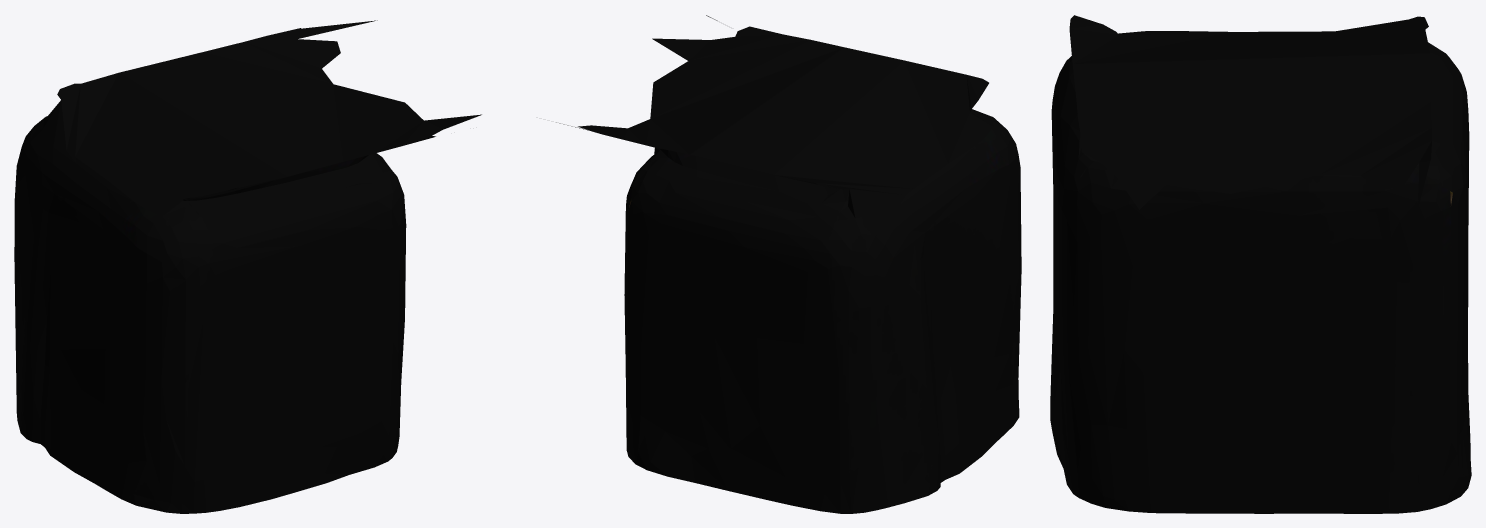
File: RightUpperArm.glb
3 views of the same model, side by side, from view 1: azimuth 30°, elevation 25°; view 2: azimuth 150°, elevation 25°; view 3: azimuth 270°, elevation 25° (orthographic). The views are drawn at different scales.
Parts seen in each view (by area): view 1: RightUpperArm; view 2: RightUpperArm; view 3: RightUpperArm.
Boxes of the visible parts, x1,y1,x2,y2 form: RightUpperArm: (14, 20, 481, 513); RightUpperArm: (556, 15, 1021, 513); RightUpperArm: (1050, 15, 1471, 513).
Bounding box in the file's own units: 1.49 × 1.15 × 1.18.
1 material, 1 textured.
